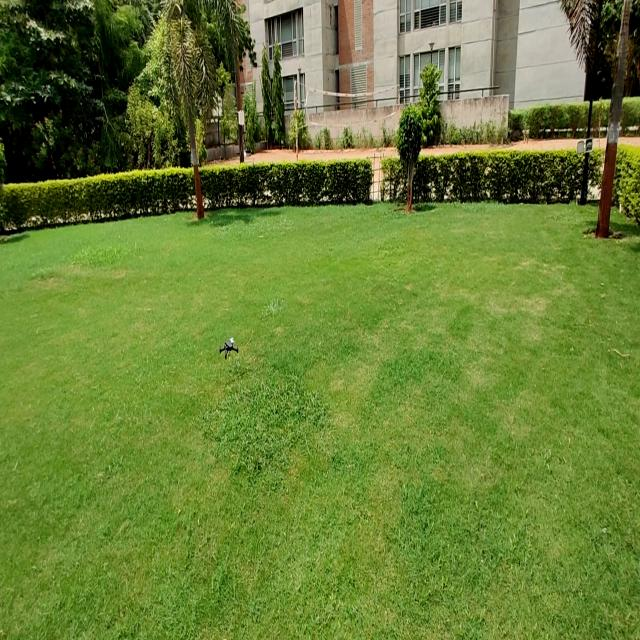drone: (216, 326, 245, 372)
